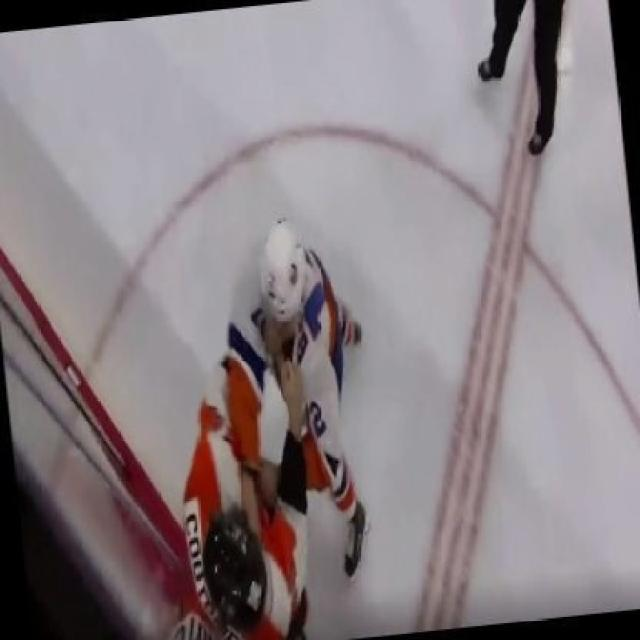fight: (170, 226, 371, 638)
